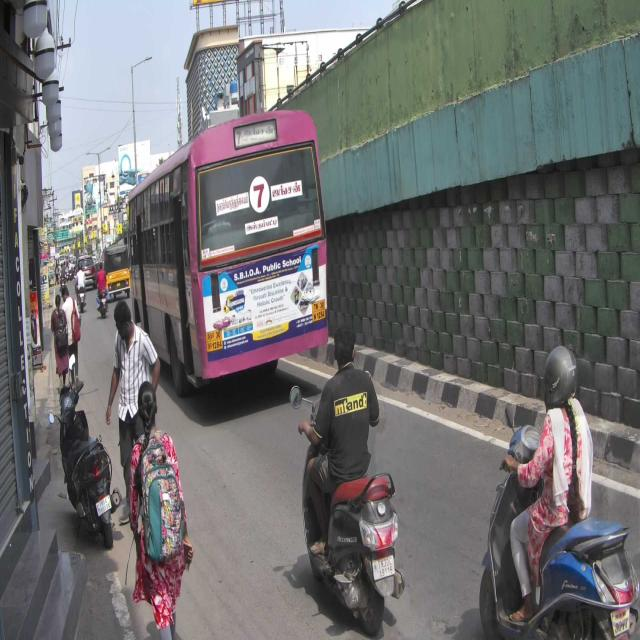single_rider: (480, 341, 640, 640), (290, 320, 404, 634)
